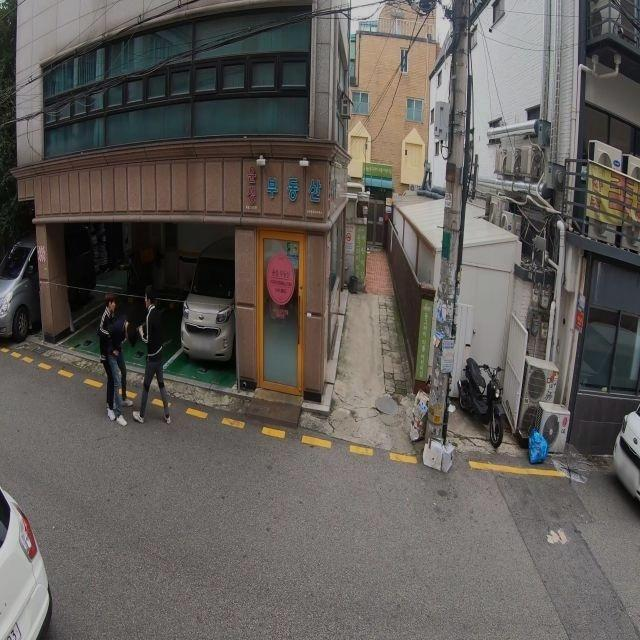fight: (97, 290, 171, 427)
